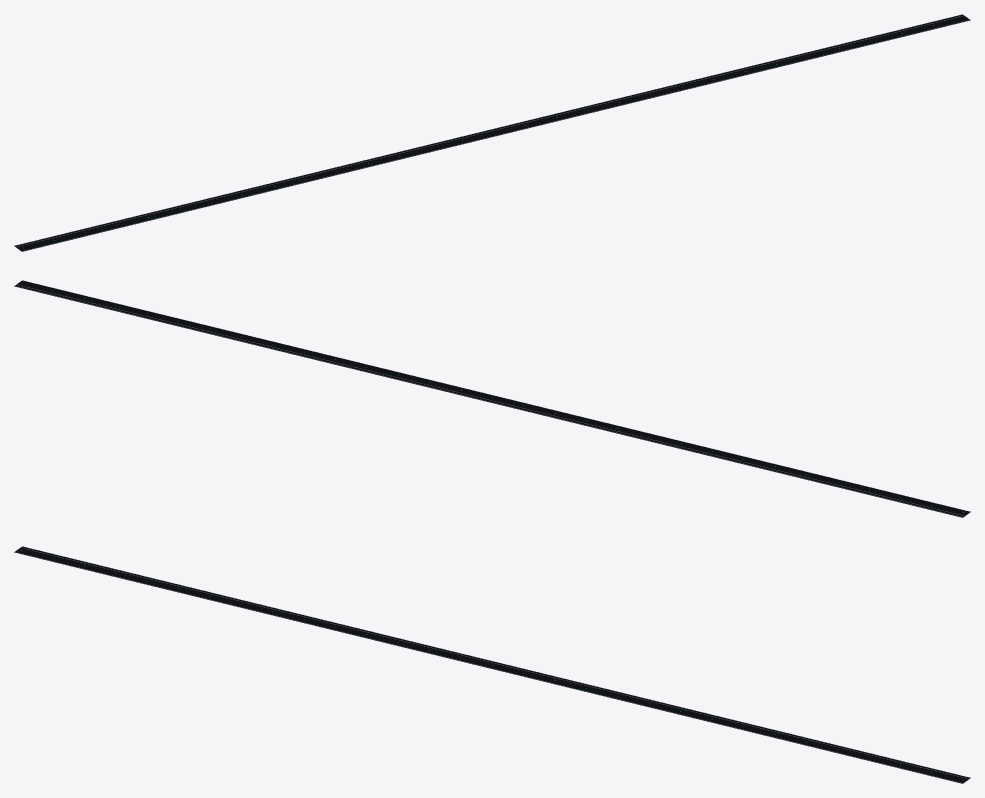
Rendered from tt_trk_straight_sn.glb.
The picture shows the model from 3 angles, top to bottom: view 1: azimuth 30°, elevation 25°; view 2: azimuth 150°, elevation 25°; view 3: azimuth 330°, elevation 25°; orthographic projection.
Visible parts, largest first — view 1: Track_Bed, Lane_Paint; view 2: Track_Bed, Lane_Paint; view 3: Track_Bed, Lane_Paint.
Part boxes in pixels (box(x1,y1,x2,y2)): Track_Bed: box(14, 14, 970, 251); Lane_Paint: box(14, 14, 969, 250); Track_Bed: box(14, 280, 970, 517); Lane_Paint: box(15, 280, 970, 516); Track_Bed: box(14, 546, 970, 783); Lane_Paint: box(15, 546, 970, 782).
Size of what is drawn, in the model's own units: 121 by 0.069 by 1.8.
4 materials, 2 textured.
